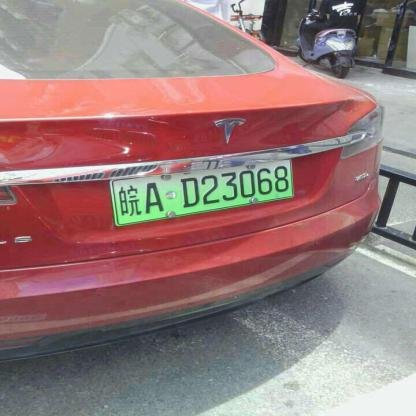lp: (106, 162, 294, 224)
